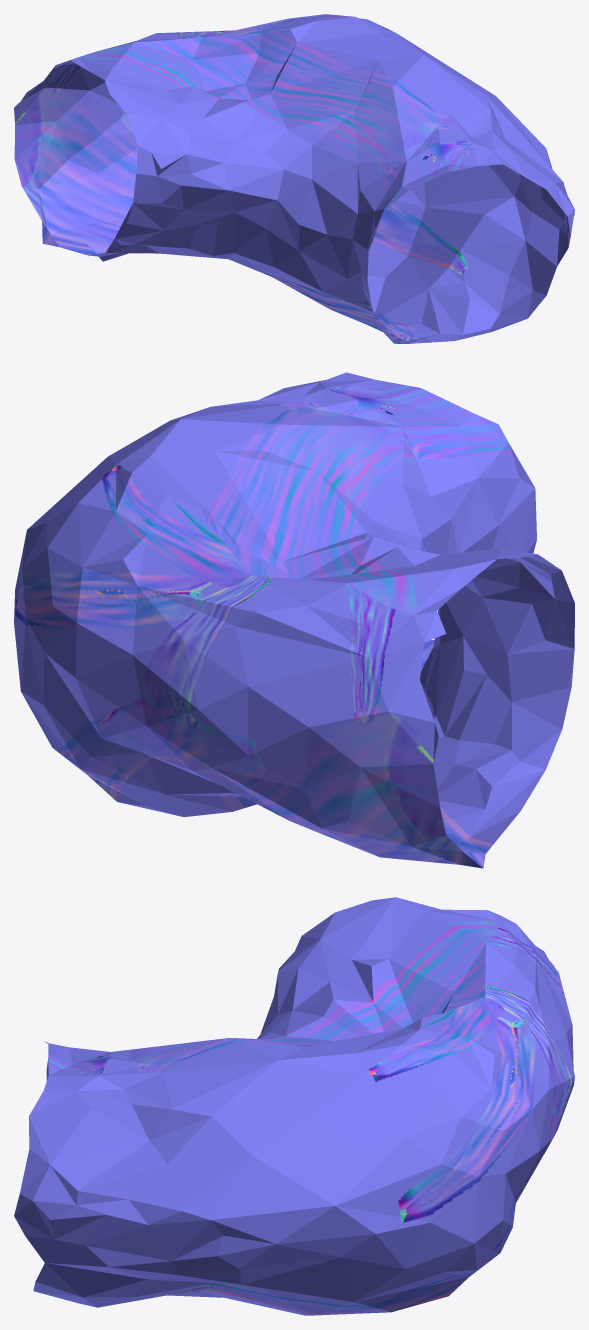
The model's file is ElbowCor.fbx.
3 renders of one model, top to bottom at view 1: azimuth 30°, elevation 25°; view 2: azimuth 150°, elevation 25°; view 3: azimuth 270°, elevation 25°, orthographic. The views are drawn at different scales.
Visible parts, largest first — view 1: ElbowCor; view 2: ElbowCor; view 3: ElbowCor.
Part boxes in pixels (bbox=[...]): ElbowCor: bbox=[14, 14, 574, 343]; ElbowCor: bbox=[14, 372, 574, 868]; ElbowCor: bbox=[14, 897, 574, 1315].
Size of the model in its own units: 2225 by 1312 by 2338.
